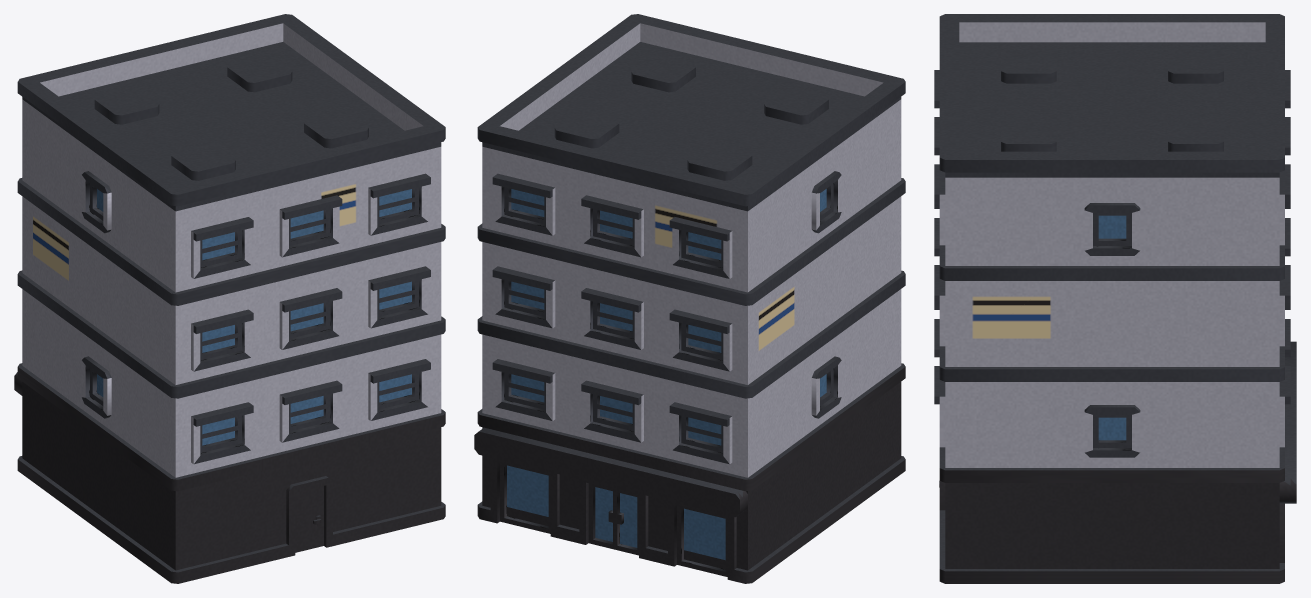
Rendered from building-i-white.glb.
The picture shows the model from 3 angles, left to right: view 1: azimuth 30°, elevation 25°; view 2: azimuth 150°, elevation 25°; view 3: azimuth 270°, elevation 25°; orthographic projection. The views are drawn at different scales.
Parts seen in each view (by area): view 1: building-i-white; view 2: building-i-white; view 3: building-i-white.
Part boxes in pixels (x1,y1,x2,y2): building-i-white: (14, 14, 445, 583); building-i-white: (474, 14, 905, 583); building-i-white: (934, 14, 1296, 583).
Bounding box in the file's own units: 1.24 × 1.68 × 1.3.
Materials: 1 (1 with a texture image).
